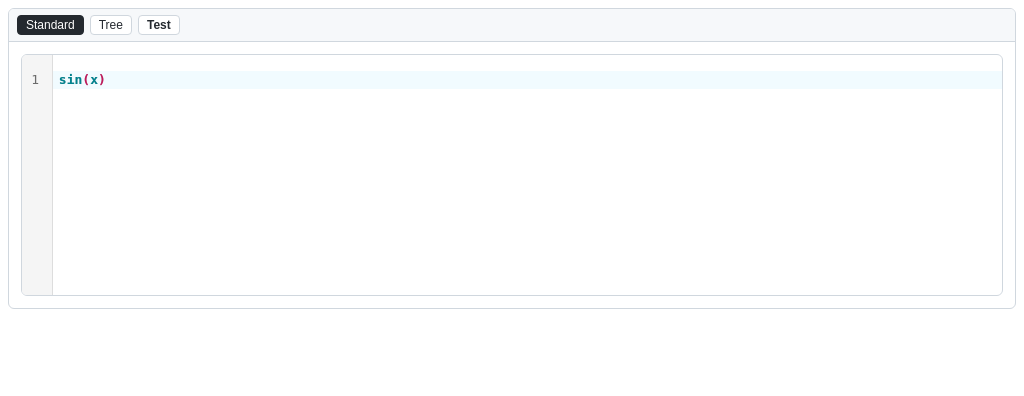
Test: FuncScriptTester tree workflow › collapses parse tree nodes by default
The width and height of the screenshot is (1024, 396).
Click the button "Tree" at coordinates (111, 25), box 90,15 -> 132,35
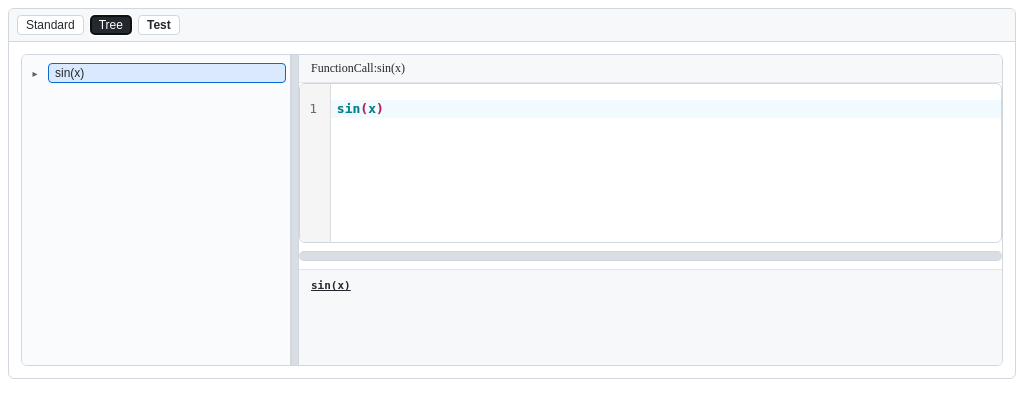
Click the button named "Expand node sin(x)" at coordinates (35, 73), box 26,64 -> 44,82
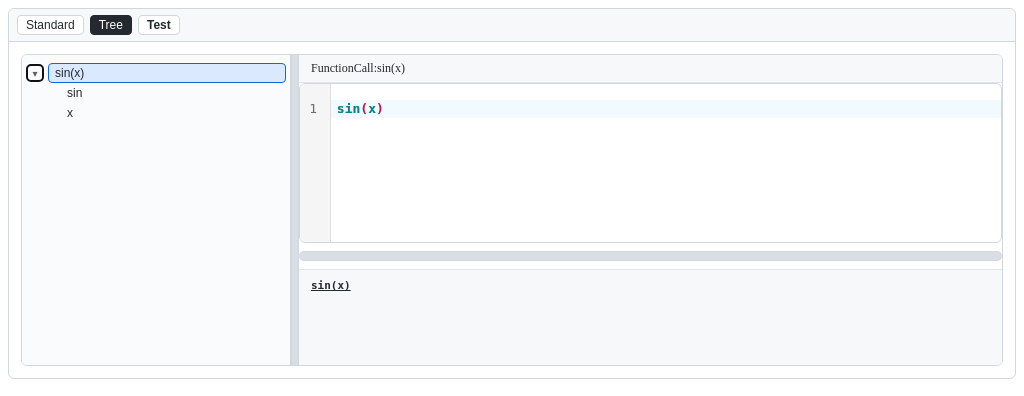
expect the button "x" is shown: met, box 60,103 -> 286,123
